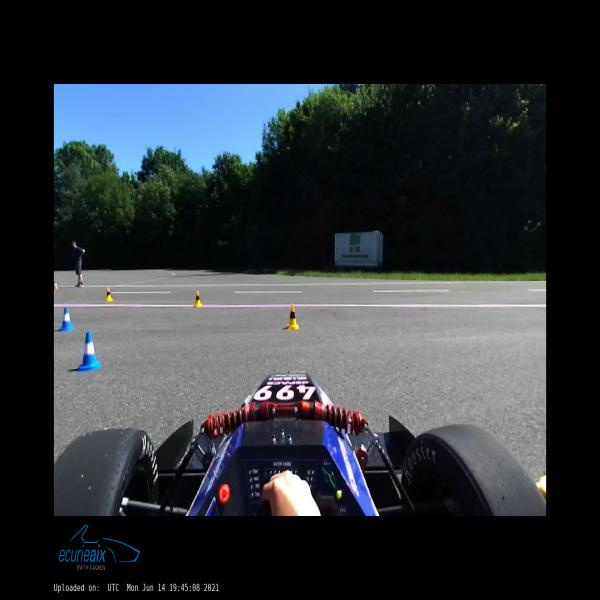blue_cone: (78, 332, 102, 372), (59, 308, 74, 332)
orange_cone: (54, 282, 58, 290)
yellow_cone: (287, 304, 299, 330), (194, 291, 202, 307), (105, 288, 113, 301)
